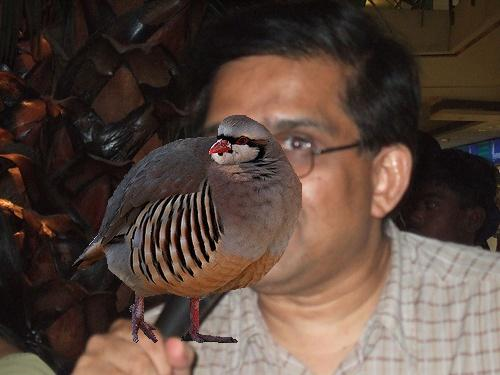tampered: (73, 116, 302, 343)
